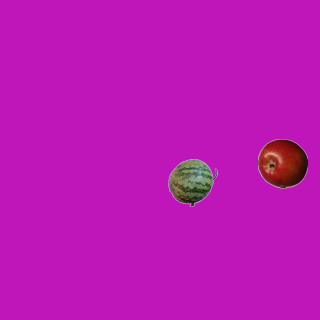Apple Braeburn: (257, 138, 307, 188)
Watermelon: (167, 157, 217, 207)
